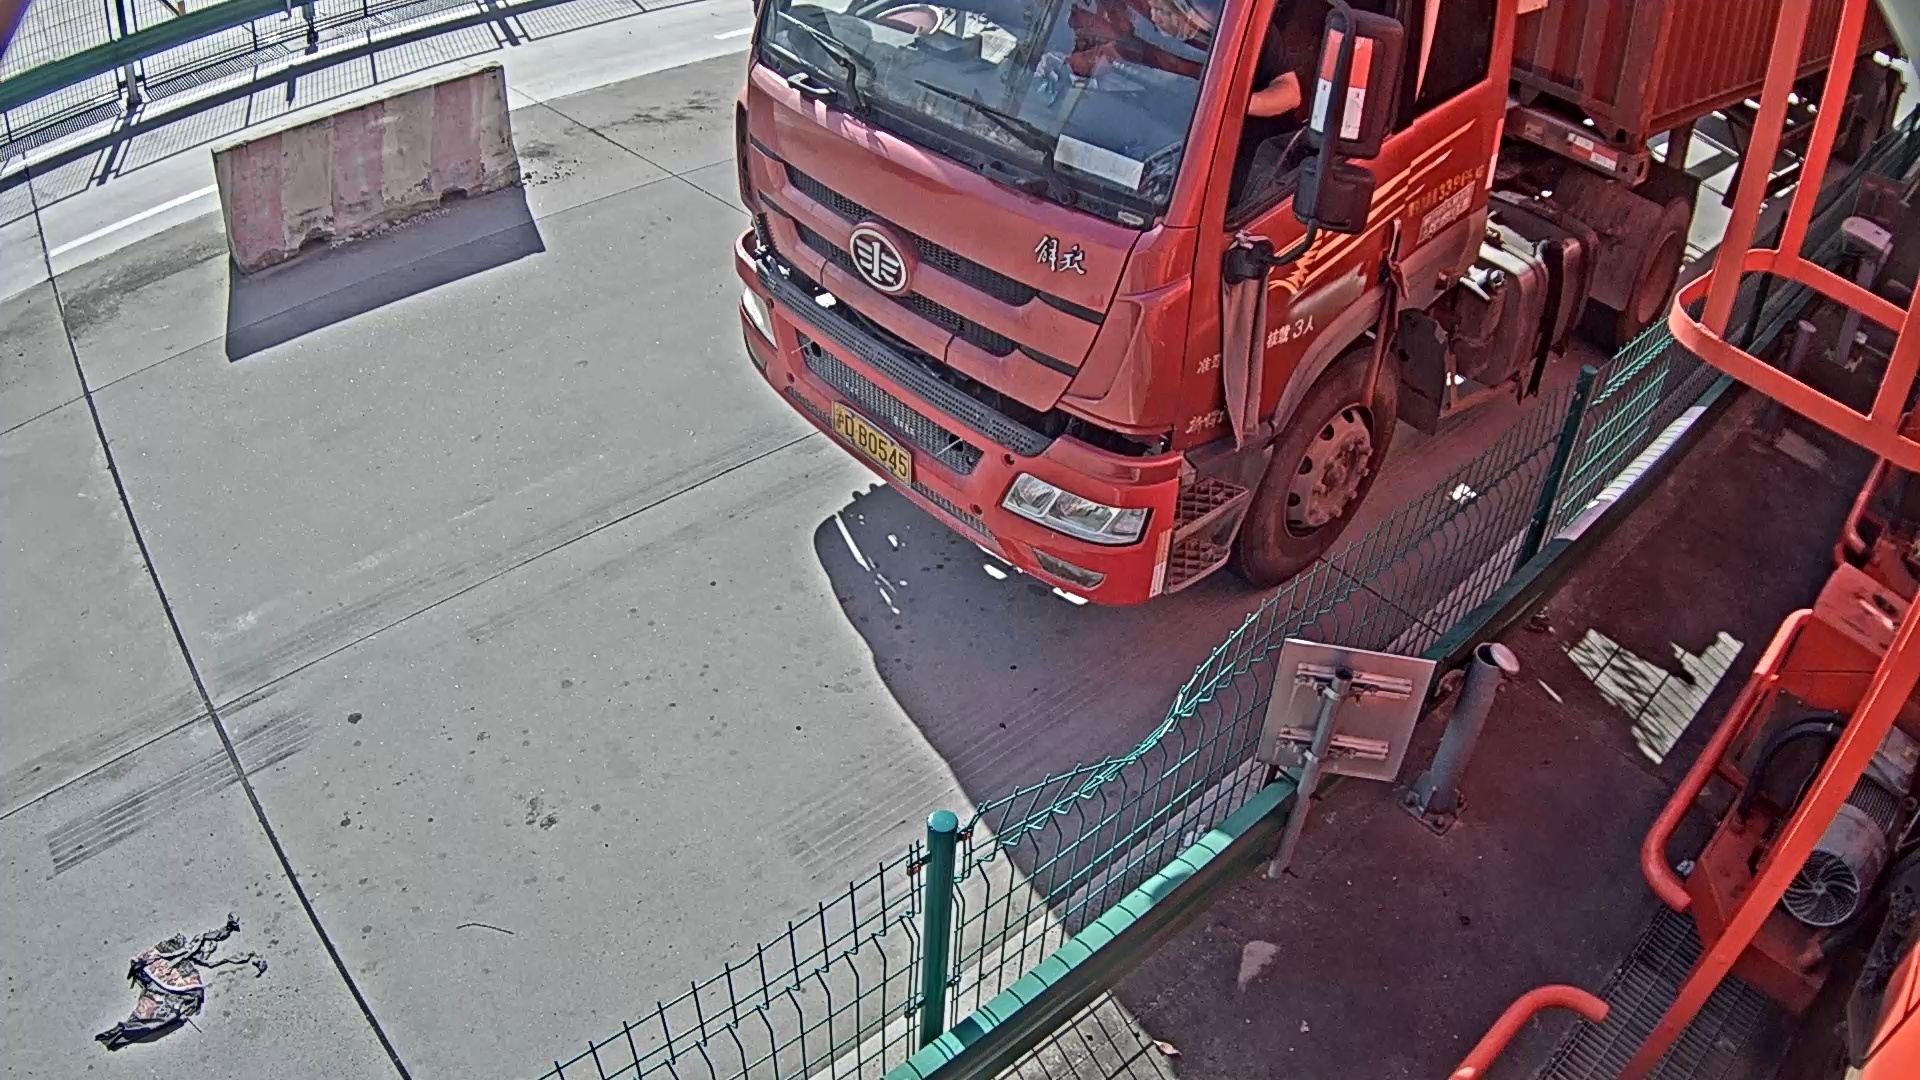head: (730, 1, 1516, 605)
plate: (828, 400, 914, 488)
